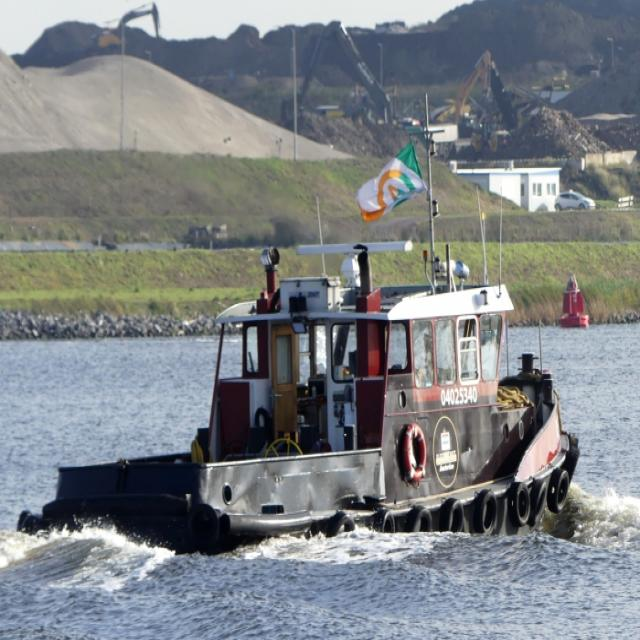tugboat: (8, 86, 587, 580)
